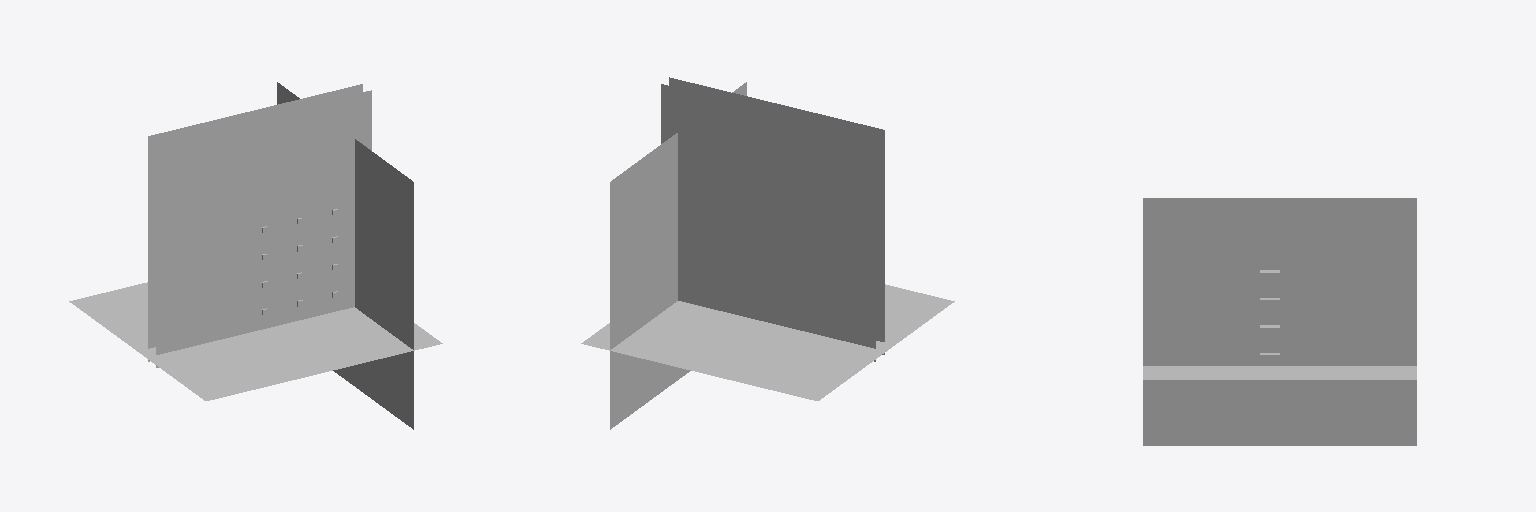
File: room.obj
3 views of the same model, side by side, from view 1: azimuth 30°, elevation 25°; view 2: azimuth 150°, elevation 25°; view 3: azimuth 270°, elevation 25° (orthographic).
Parts seen in each view (by area): view 1: Plane.001, Plane.002, Plane.003, Plane; view 2: Plane, Plane.002, Plane.003, Plane.001; view 3: Plane.003, Plane.002, Cube.
Part boxes in pixels (left/top/right/bottom): Plane.001: left=156, top=90, right=371, bottom=367; Plane.002: left=69, top=282, right=442, bottom=400; Plane.003: left=277, top=82, right=413, bottom=429; Plane: left=148, top=84, right=362, bottom=361; Plane: left=661, top=84, right=875, bottom=361; Plane.002: left=581, top=284, right=954, bottom=400; Plane.003: left=610, top=82, right=746, bottom=429; Plane.001: left=669, top=77, right=884, bottom=354; Plane.003: left=1143, top=198, right=1416, bottom=445; Plane.002: left=1143, top=366, right=1416, bottom=379; Cube: left=1260, top=270, right=1279, bottom=359.
Bounding box in the file's own units: 94.11 × 111 × 94.11.